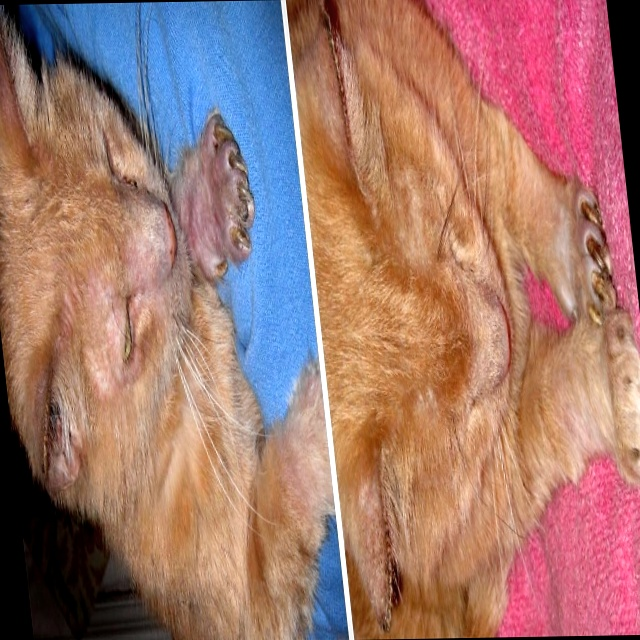ringworm: (181, 132, 231, 261), (78, 265, 123, 387)
